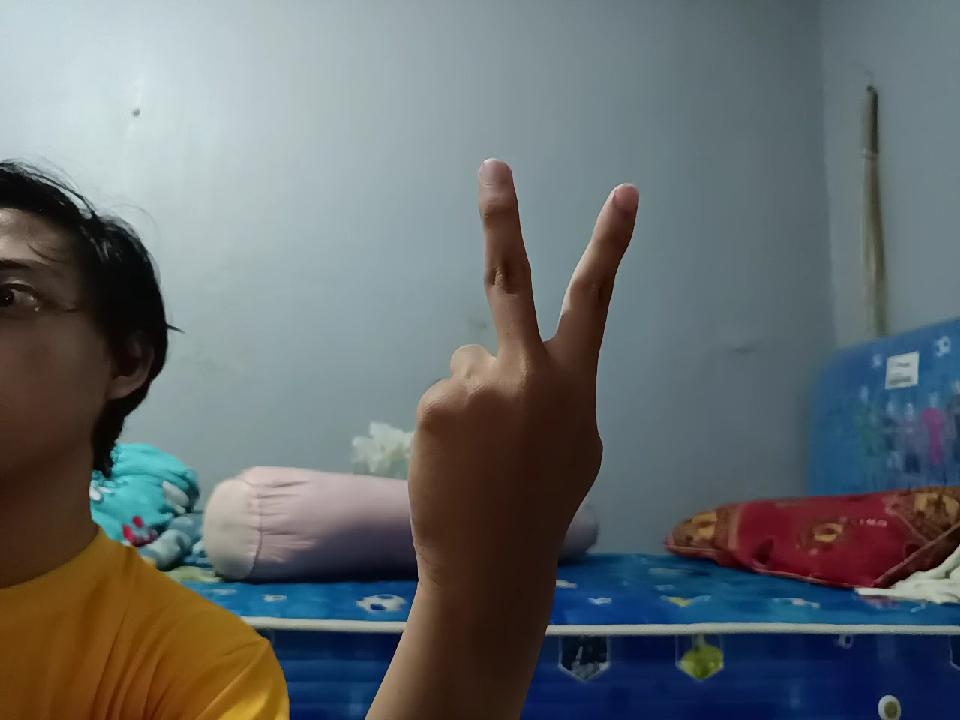scissors: (403, 131, 641, 660)
